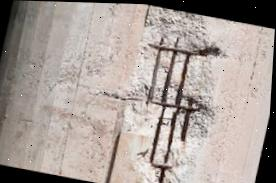exposed_rebar: (146, 37, 220, 183), (153, 106, 176, 164), (165, 53, 186, 104), (152, 50, 172, 101)
spalling: (124, 5, 227, 183)
